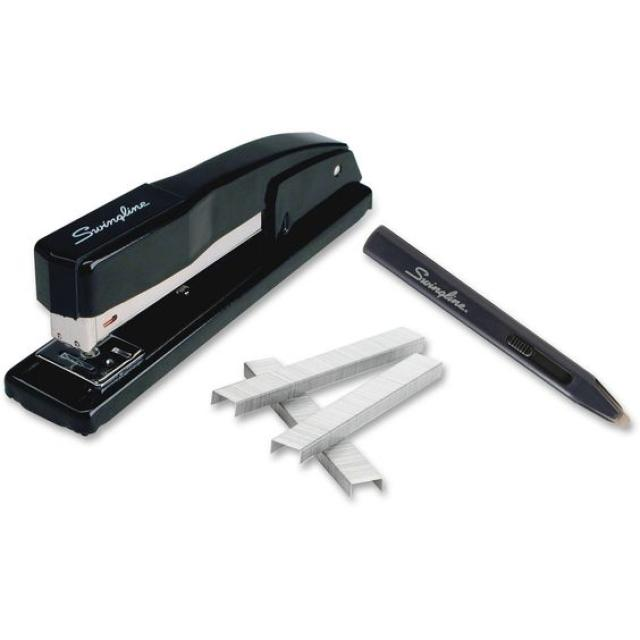Stapler: (0, 100, 378, 440)
